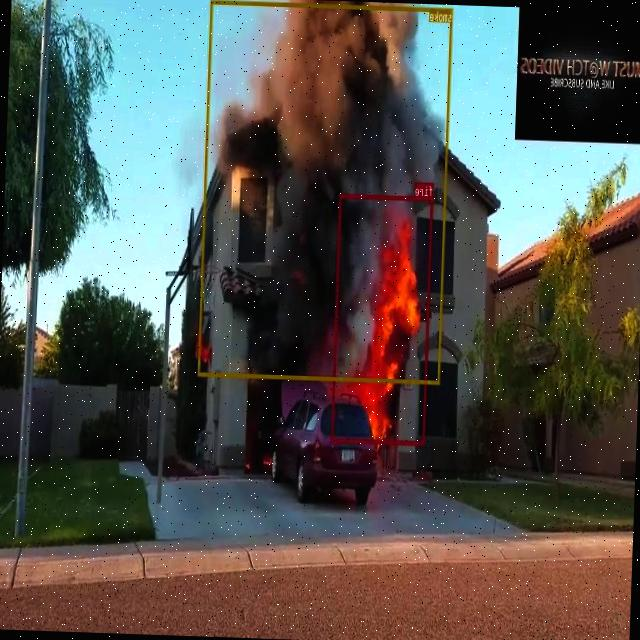fire: (331, 193, 434, 444)
smoke: (197, 0, 452, 383)
